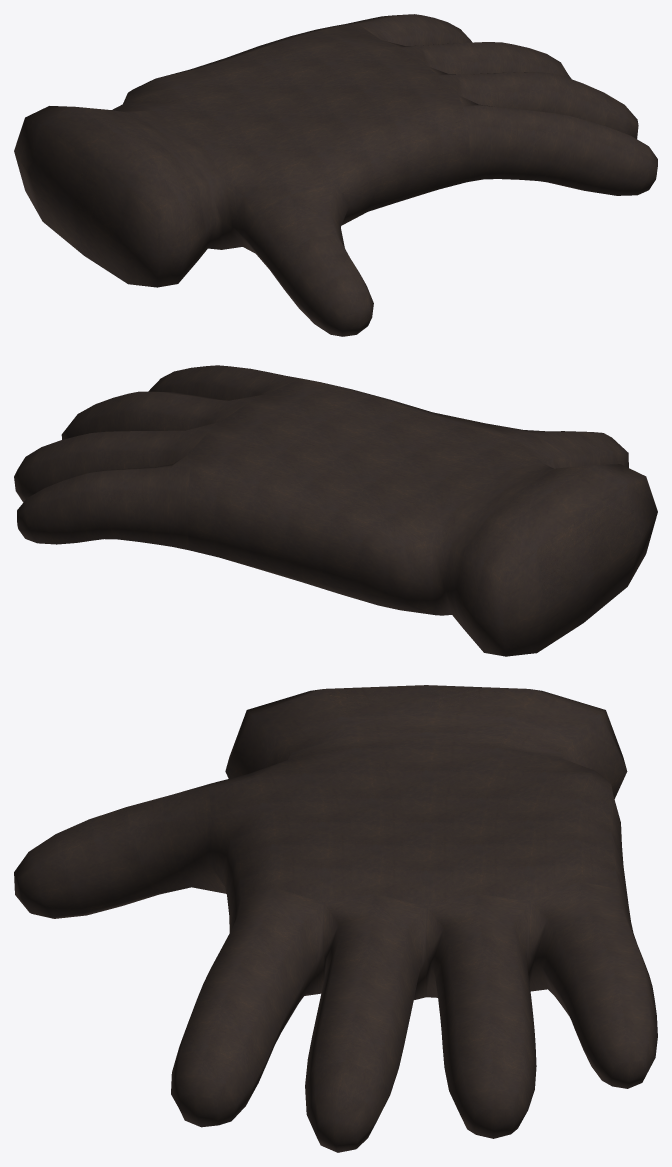
Rendered from hand-left.glb.
3 renders of one model, top to bottom at view 1: azimuth 30°, elevation 25°; view 2: azimuth 150°, elevation 25°; view 3: azimuth 270°, elevation 25°, orthographic. The views are drawn at different scales.
Visible parts, largest first — view 1: Hand; view 2: Hand; view 3: Hand.
Part boxes in pixels (box(x1,y1,x2,y2)): Hand: box(14, 14, 657, 336); Hand: box(14, 365, 657, 656); Hand: box(14, 685, 657, 1152).
Size of the model in its own units: 0.2724 by 0.0622 by 0.2107.
Materials: 1 (1 with a texture image).
